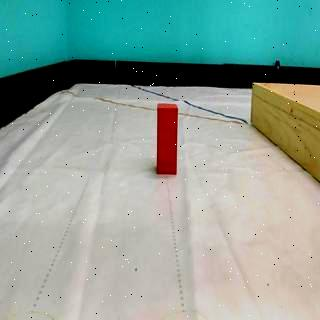redbox: (157, 104, 178, 174)
